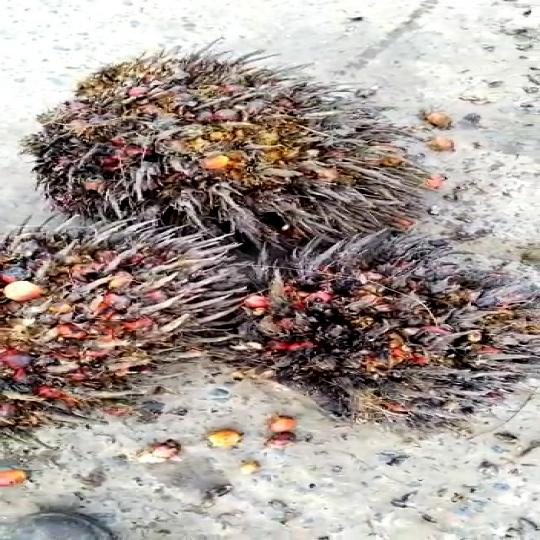terlalu masak: (25, 56, 429, 263), (194, 226, 537, 426)
